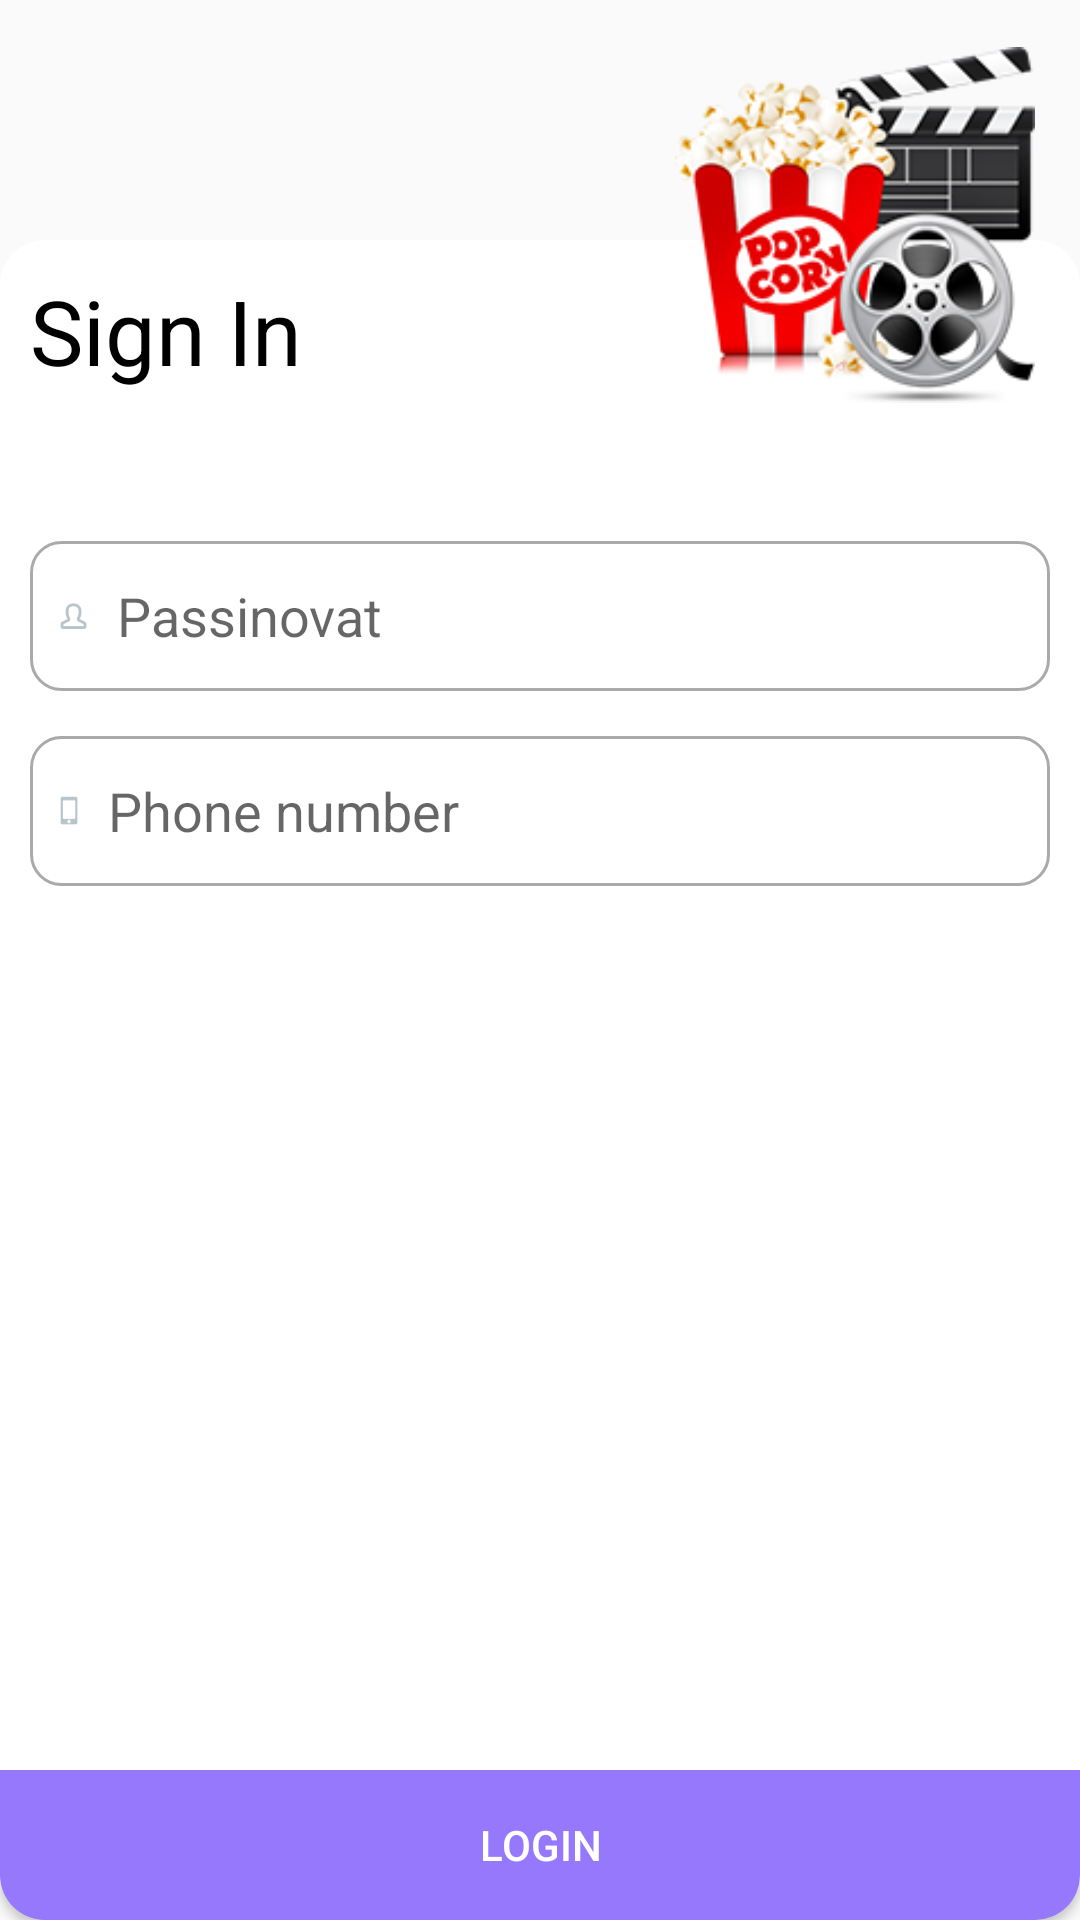

Where icons sit on this 1080px x 1920px app screen, as (x1, y1, x2, y2):
pop cineroll: (675, 47, 1035, 401)
